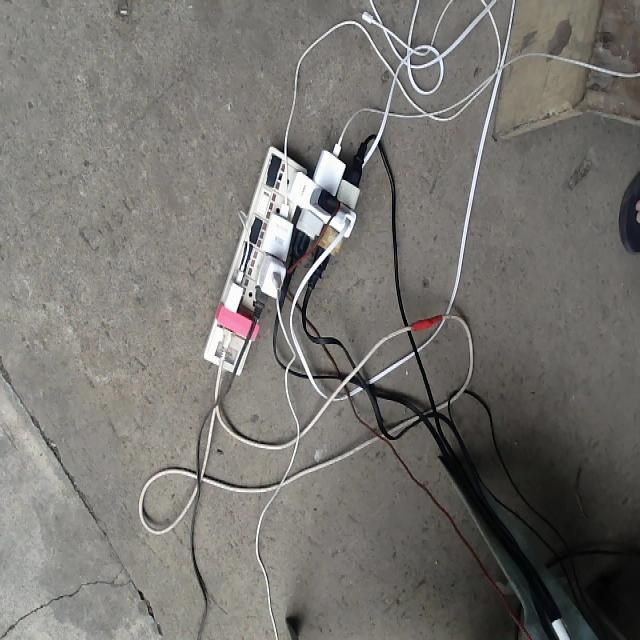-: (203, 142, 361, 378)
